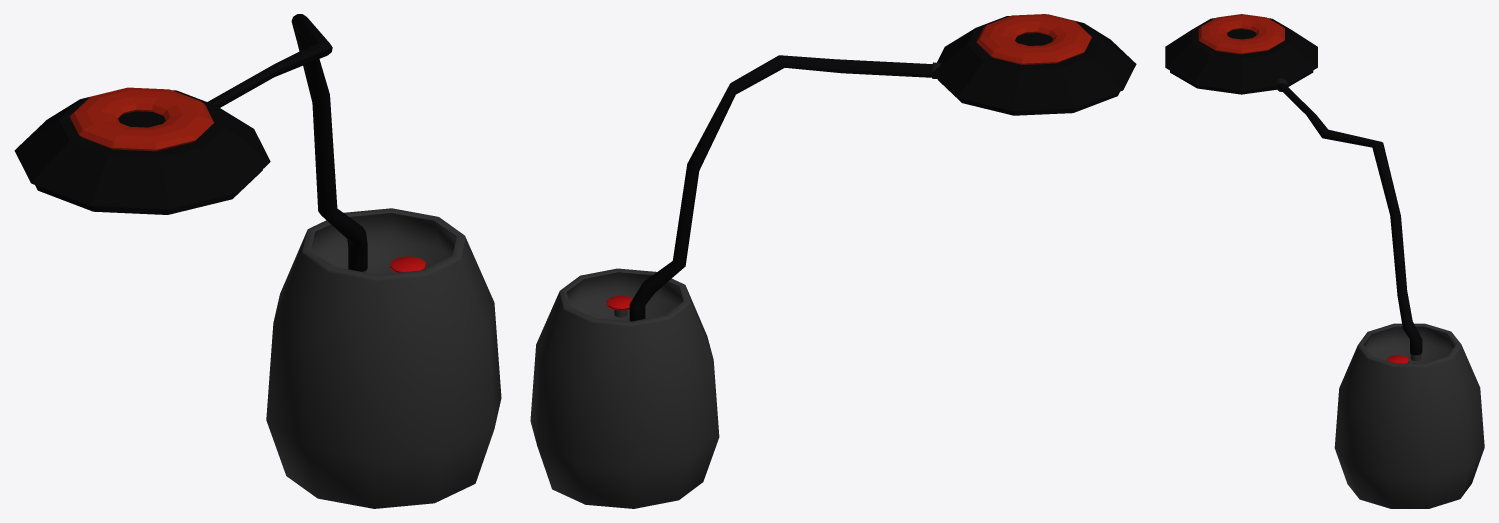
File: Food Element Stove.fbx
3 views of the same model, side by side, from view 1: azimuth 30°, elevation 25°; view 2: azimuth 150°, elevation 25°; view 3: azimuth 270°, elevation 25° (orthographic). The views are drawn at different scales.
Parts seen in each view (by area): view 1: pasted__pCone8; view 2: pasted__pCone8; view 3: pasted__pCone8.
Part boxes in pixels (left/top/right/bottom): pasted__pCone8: left=14, top=14, right=501, bottom=508; pasted__pCone8: left=530, top=14, right=1136, bottom=508; pasted__pCone8: left=1165, top=14, right=1484, bottom=508.
Bounding box in the file's own units: 2.22 × 1.99 × 1.68.
